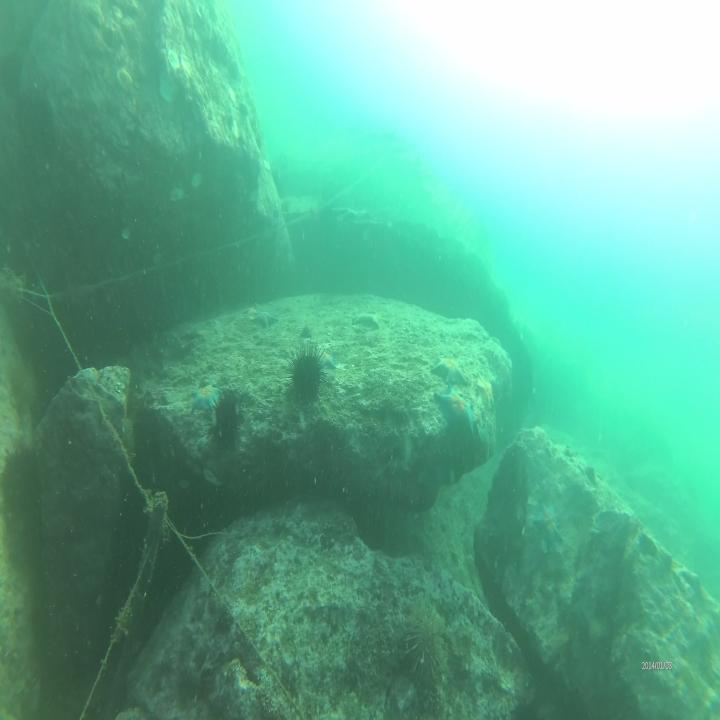echinus: (404, 600, 451, 680), (1, 446, 40, 515), (288, 348, 320, 403), (212, 391, 240, 448)
starfish: (532, 499, 566, 557), (440, 388, 477, 433), (432, 352, 470, 387), (190, 382, 218, 418), (476, 372, 497, 410), (251, 306, 280, 333), (315, 346, 334, 378)
